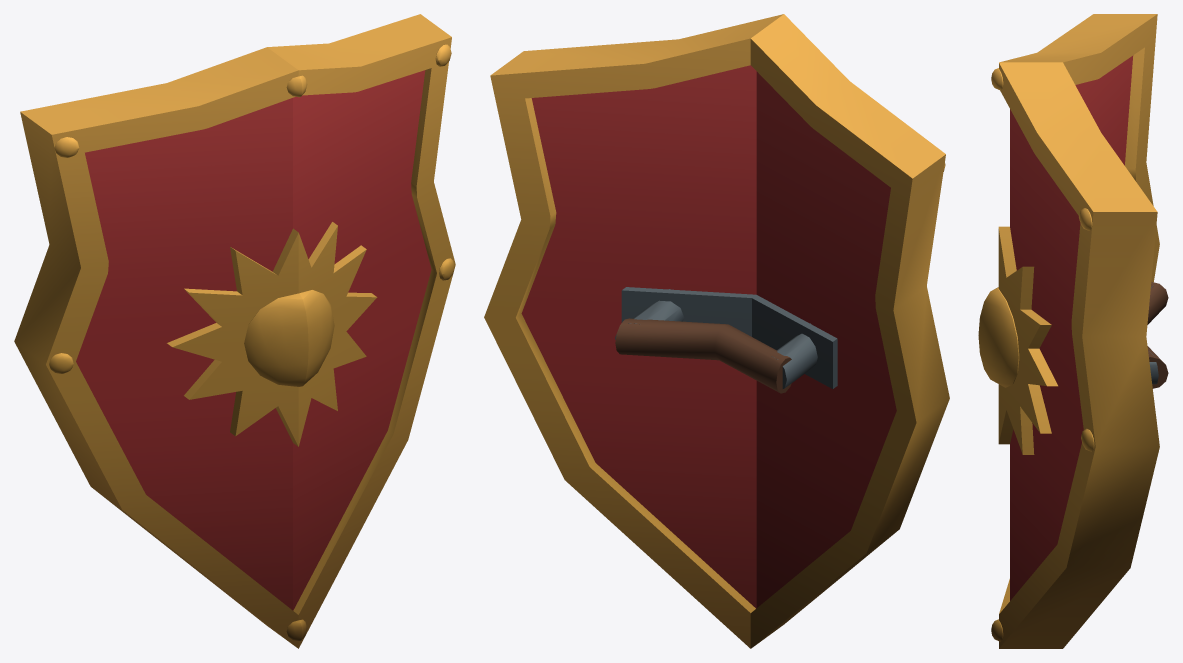
The model's file is shield_heroic_sun.glb.
3 views of the same model, side by side, from view 1: azimuth 30°, elevation 25°; view 2: azimuth 150°, elevation 25°; view 3: azimuth 270°, elevation 25° (orthographic). The views are drawn at different scales.
Visible parts, largest first — view 1: Item; view 2: Item; view 3: Item.
Boxes of the visible parts, x1,y1,x2,y2 form: Item: (14, 14, 455, 648); Item: (484, 14, 949, 648); Item: (978, 14, 1168, 648).
Bounding box in the file's own units: 0.86 × 1.16 × 0.3406.
Materials: 4 (4 with a texture image).
